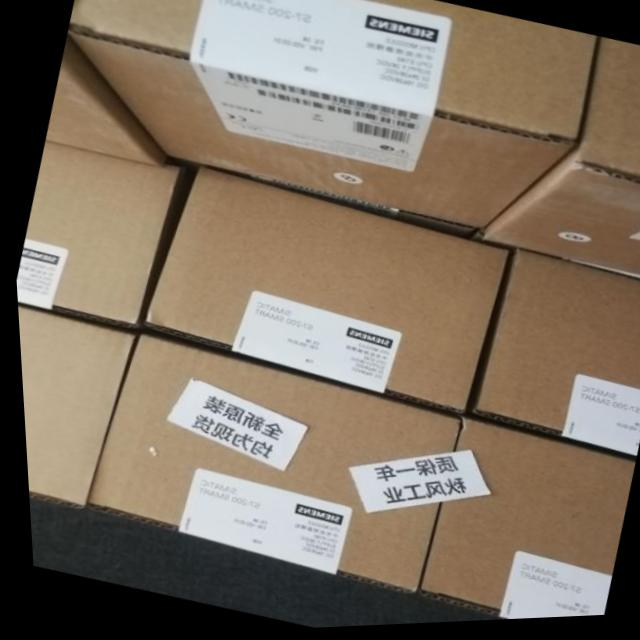box: (70, 0, 596, 236), (80, 327, 454, 600), (135, 166, 507, 418), (410, 421, 630, 623), (476, 43, 640, 284), (456, 255, 640, 462), (13, 139, 180, 330), (14, 307, 135, 511), (44, 30, 167, 164)
